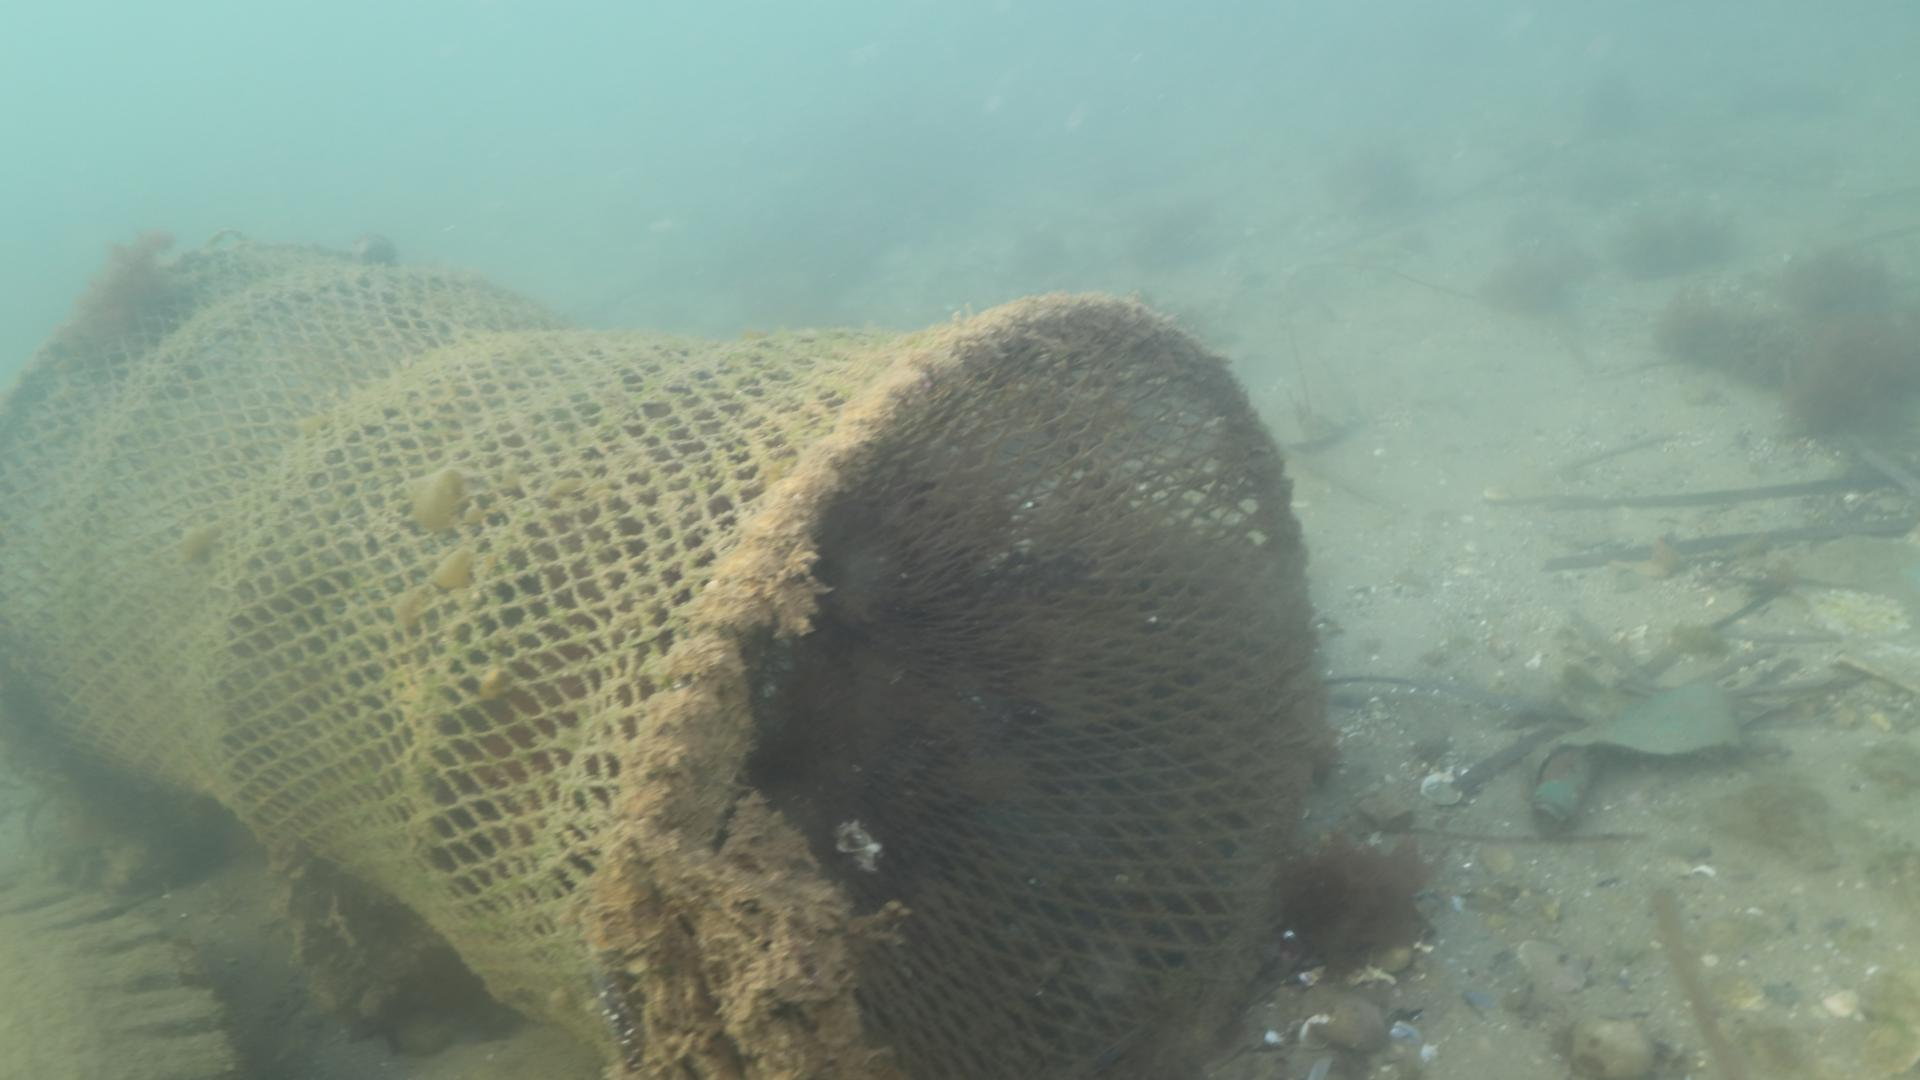spring fish trap: (0, 224, 1312, 1080)
